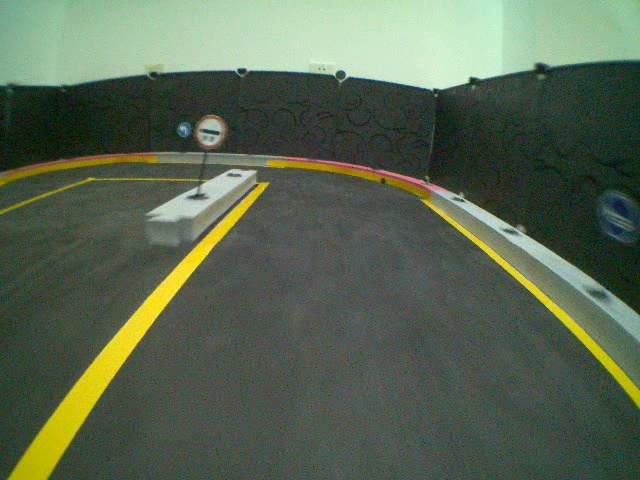Check: (194, 114, 227, 150)
horn: (593, 188, 640, 248)
turn: (175, 121, 192, 139)
